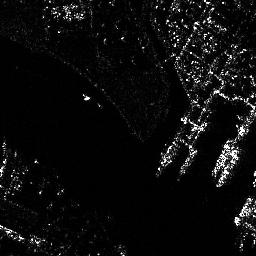ship: (215, 148, 240, 187), (234, 195, 253, 225)
